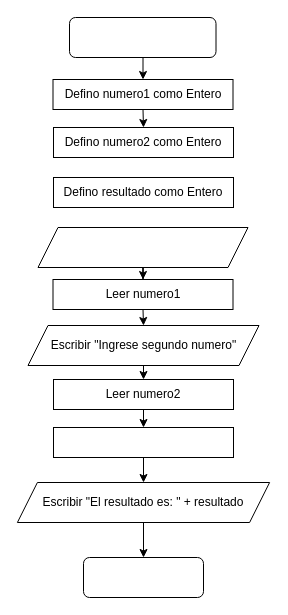
Some shapes in this 288 by 615 pixel diagram are drawn without their labels. The shapes that lost their labels are listed below. From the top down, each one's centre as x and y in pixels, then its label:
(142,37): Proceso Multiplicacion
(142,247): Escribir "Ingrese primer numero"
(143,442): resultado = numero1 * numero2
(143,577): Fin Proceso
